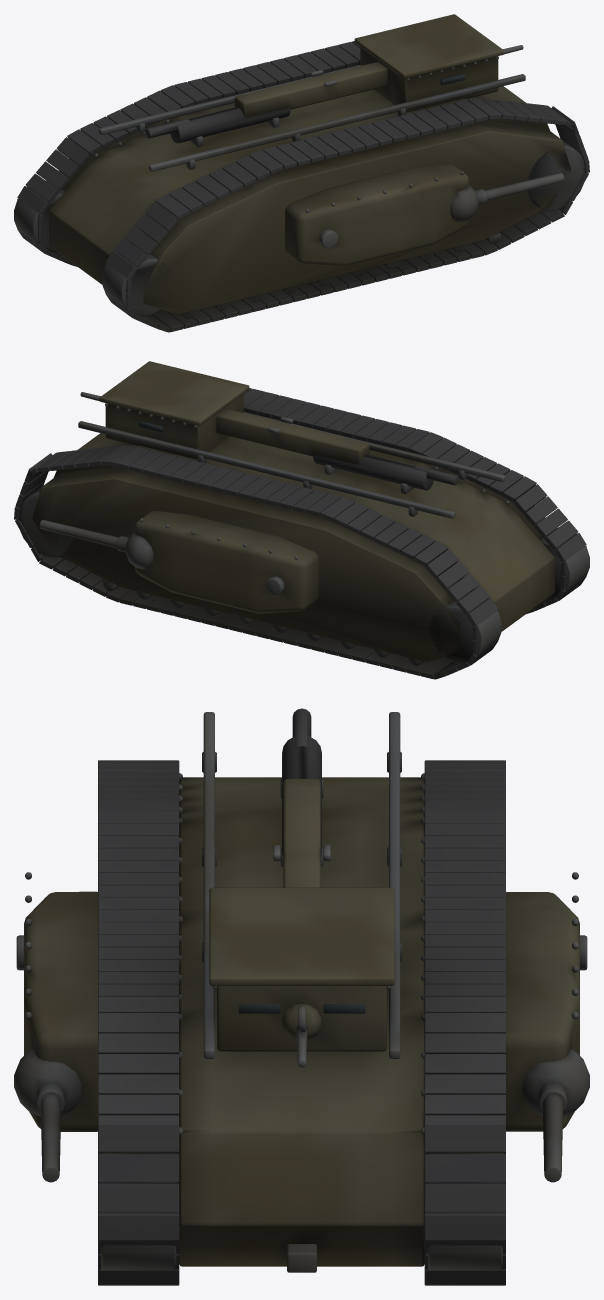
Rendered from mark_iv.glb.
3 views of the same model, one above another, from view 1: azimuth 30°, elevation 25°; view 2: azimuth 150°, elevation 25°; view 3: azimuth 270°, elevation 25° (orthographic). The views are drawn at different scales.
Parts seen in each view (by area): view 1: hull, track, sponson, cab, beam, exhaust, sponson_gun; view 2: hull, track, sponson, cab, beam, exhaust, sponson_gun; view 3: hull, track, sponson, cab, beam, sponson_gun, exhaust, mg.
Part boxes in pixels (x1,y1,x2,y2): hull: [14, 64, 585, 318]; track: [17, 41, 589, 332]; sponson: [285, 163, 468, 266]; cab: [354, 14, 504, 112]; beam: [98, 61, 525, 171]; exhaust: [145, 107, 290, 147]; sponson_gun: [450, 173, 564, 222]; hull: [18, 411, 589, 665]; track: [14, 388, 586, 679]; sponson: [135, 510, 318, 613]; cab: [99, 361, 249, 459]; beam: [78, 408, 505, 518]; exhaust: [313, 454, 458, 494]; sponson_gun: [39, 520, 153, 569]; hull: [101, 773, 502, 1272]; track: [98, 760, 505, 1285]; sponson: [16, 872, 587, 1131]; cab: [209, 887, 394, 1051]; beam: [202, 712, 401, 1058]; sponson_gun: [14, 1049, 589, 1182]; exhaust: [280, 708, 323, 866]; mg: [282, 1004, 321, 1067].
Bounding box in the file's own units: 7.98 × 2.8 × 4.6.
